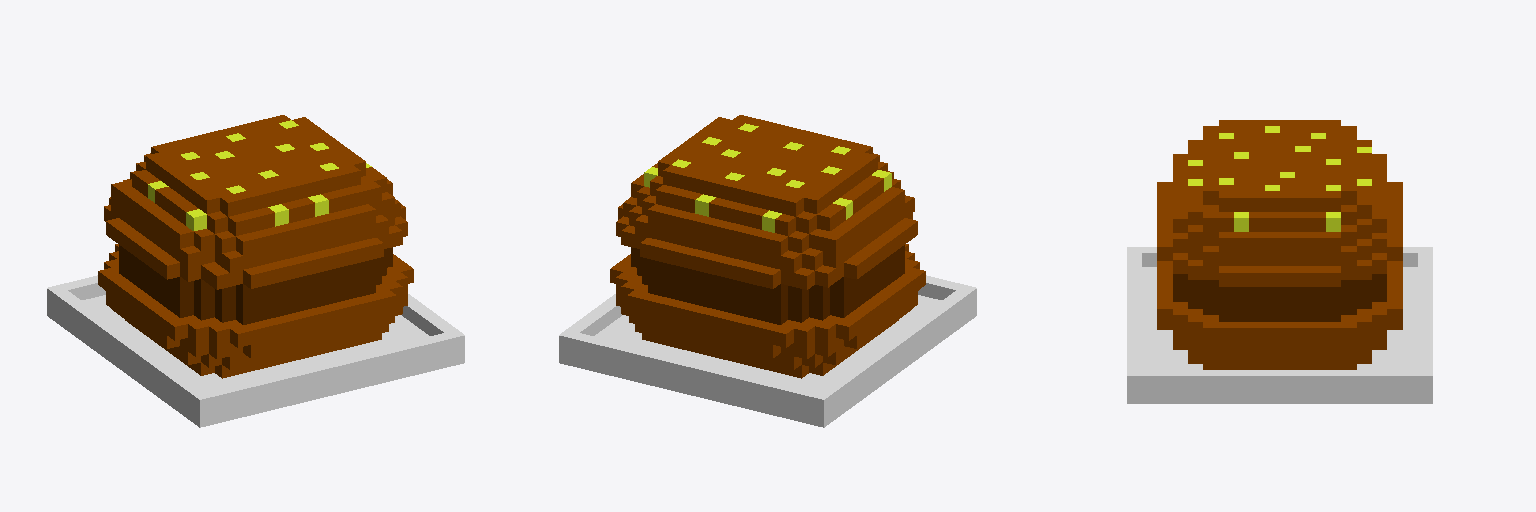
3 views of the same model, side by side, from view 1: azimuth 30°, elevation 25°; view 2: azimuth 150°, elevation 25°; view 3: azimuth 270°, elevation 25° (orthographic).
Parts seen in each view (by area): view 1: object 1; view 2: object 1; view 3: object 1.
Part boxes in pixels (left/top/right/bottom): object 1: left=47, top=115, right=464, bottom=427; object 1: left=559, top=115, right=976, bottom=427; object 1: left=1127, top=120, right=1432, bottom=403.
Size of the model in its own units: 2 by 1.4 by 2.
1 materials, 1 textured.